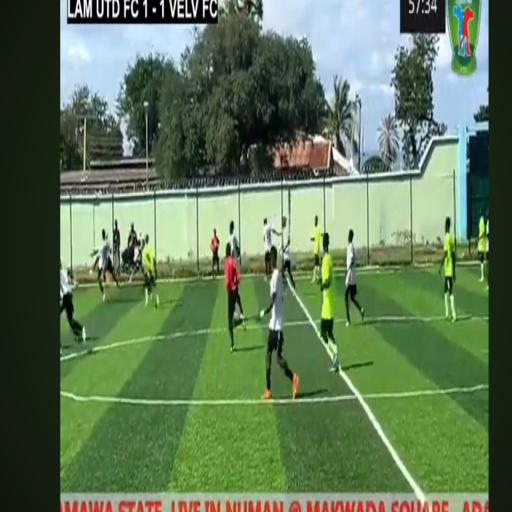referee: (220, 239, 242, 362), (207, 221, 221, 279)
team1: (261, 242, 301, 411), (60, 247, 90, 356), (342, 218, 366, 332), (277, 207, 297, 291), (94, 222, 110, 302), (261, 207, 277, 276)
team2: (314, 230, 343, 370), (136, 233, 163, 313), (444, 210, 458, 330), (310, 194, 324, 284), (475, 186, 487, 284)
